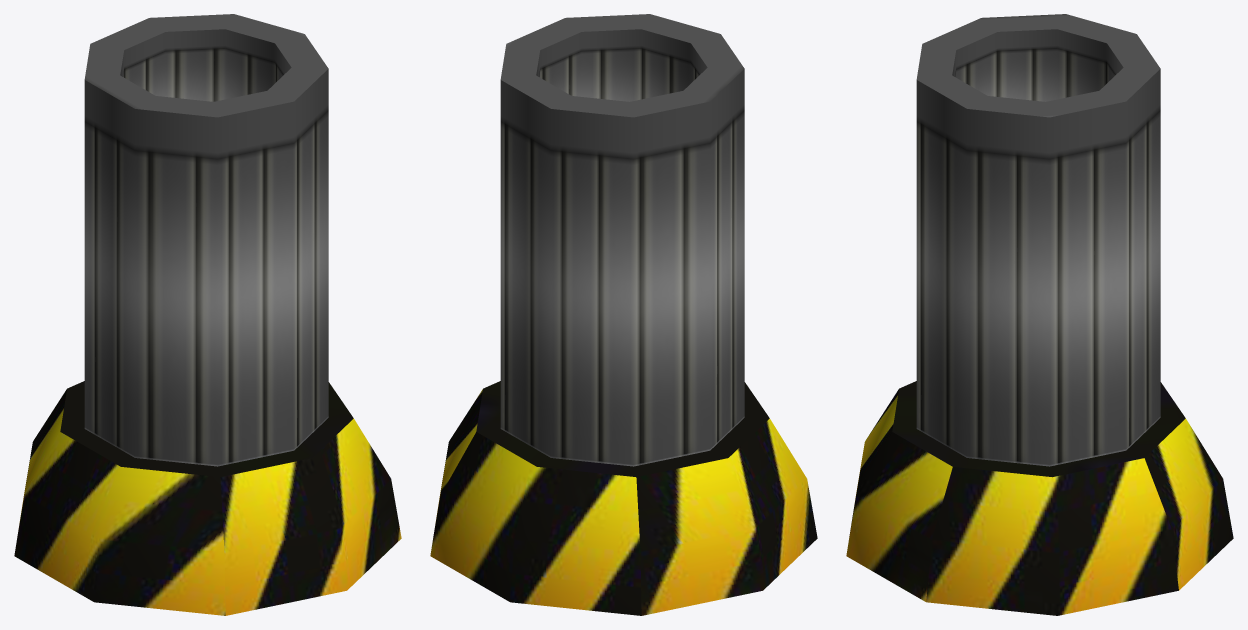
Rendered from RivitLvl3.FBX.
3 views of the same model, side by side, from view 1: azimuth 30°, elevation 25°; view 2: azimuth 150°, elevation 25°; view 3: azimuth 270°, elevation 25° (orthographic).
Parts seen in each view (by area): view 1: RivitGunLvl3; view 2: RivitGunLvl3; view 3: RivitGunLvl3.
Boxes of the visible parts, x1,y1,x2,y2 form: RivitGunLvl3: [14, 14, 401, 615]; RivitGunLvl3: [430, 14, 817, 615]; RivitGunLvl3: [846, 14, 1233, 615].
Size of the model in its own units: 14.25 by 18.92 by 14.2.
